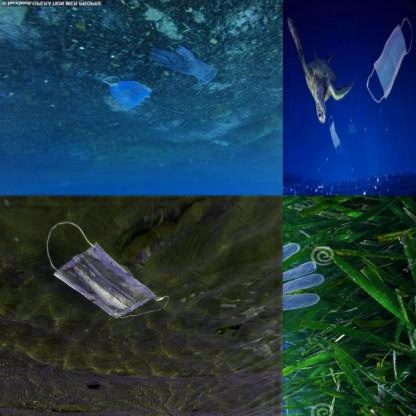Mask: (46, 218, 168, 320), (364, 0, 414, 116), (105, 74, 153, 110), (327, 112, 344, 158), (346, 112, 359, 142)
glove: (283, 237, 329, 366), (146, 44, 219, 86)
